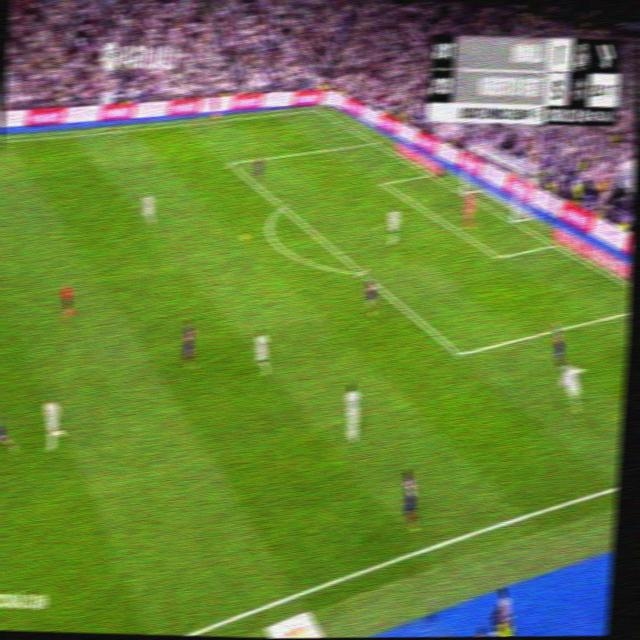bigarea_bottom_inner: (451, 341, 466, 365)
bigarea_top_inner: (225, 154, 237, 169)
bigarea_top_outter: (367, 133, 379, 147)
bottom_arc_area_intersection: (352, 261, 367, 281)
corner: (311, 102, 323, 114)
smallarea_bottom_inner: (491, 247, 505, 265)
smallarea_top_inner: (378, 177, 388, 188)
top_arc_area_intersection: (276, 197, 289, 214)
